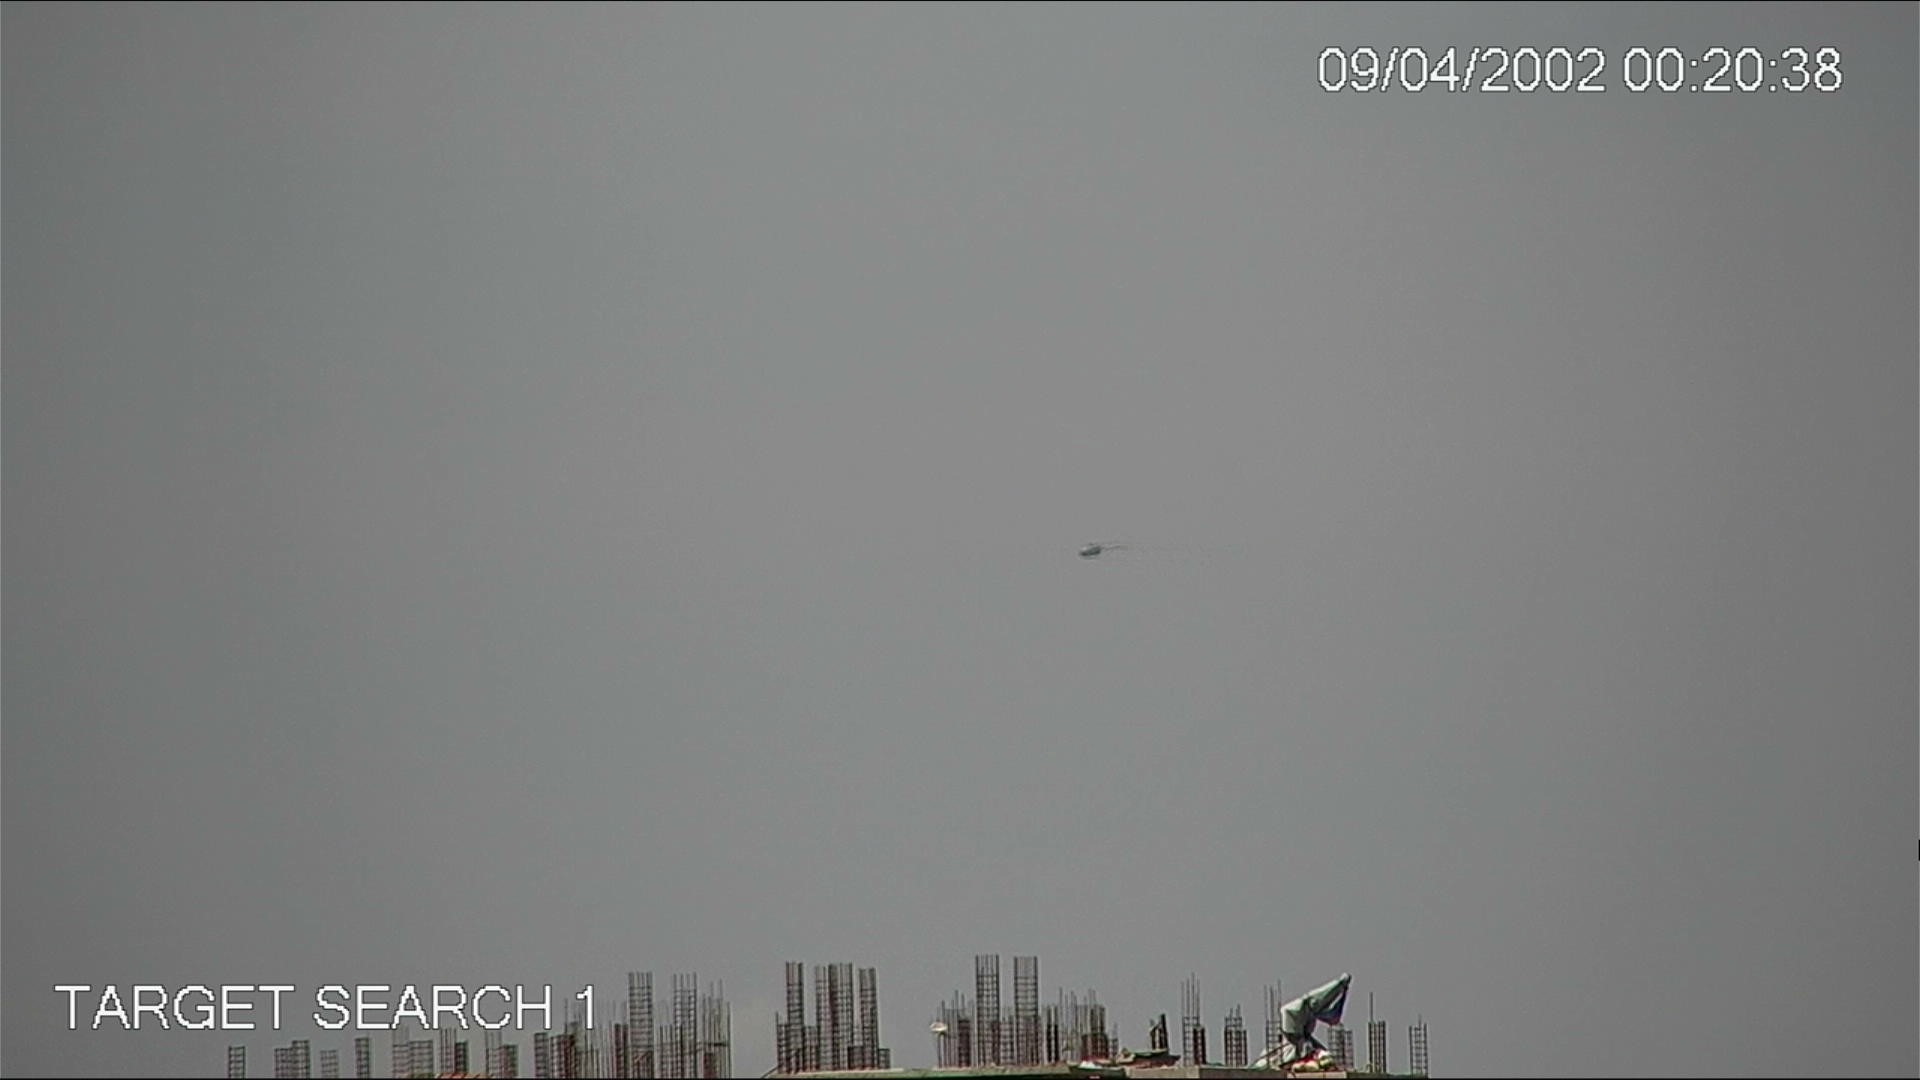SU_30: (1073, 542, 1108, 559)
